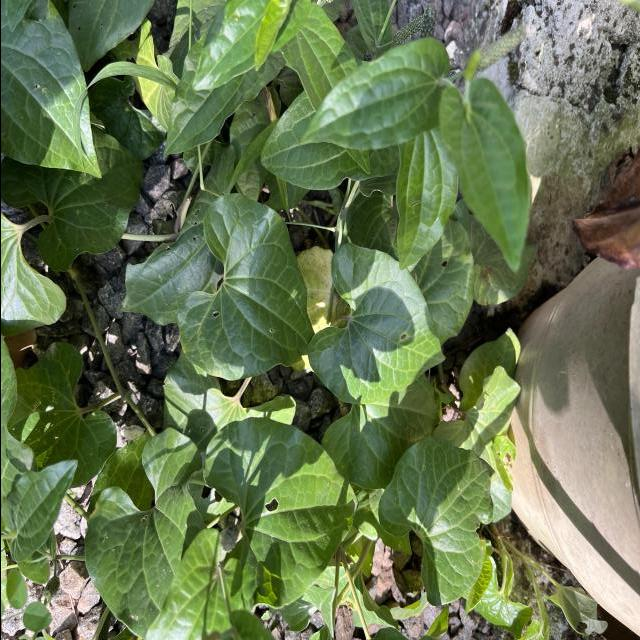Piper longum: (175, 190, 314, 382), (303, 238, 447, 408), (376, 434, 496, 609)
